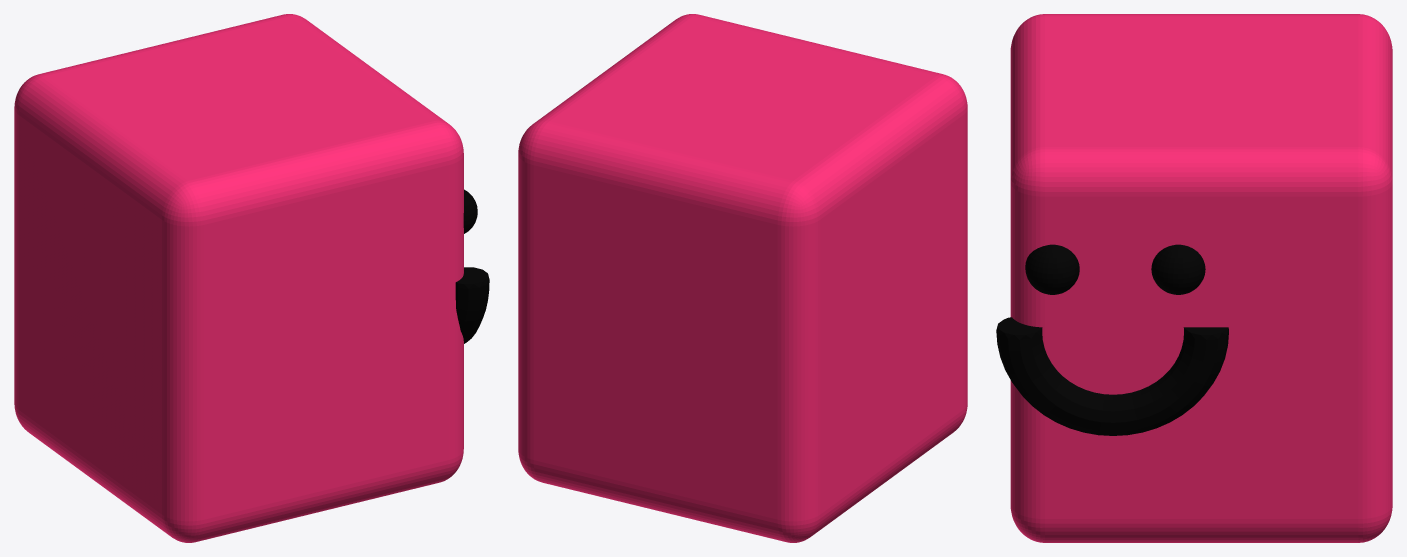
File: Chracter_HotPink.glb
3 renders of one model, left to right at view 1: azimuth 30°, elevation 25°; view 2: azimuth 150°, elevation 25°; view 3: azimuth 270°, elevation 25°, orthographic. The views are drawn at different scales.
Visible parts, largest first — view 1: Chracter_HotPink; view 2: Chracter_HotPink; view 3: Chracter_HotPink.
Boxes of the visible parts, <box> form: Chracter_HotPink: <box>14,14,489,542</box>; Chracter_HotPink: <box>518,14,967,542</box>; Chracter_HotPink: <box>996,14,1392,542</box>.
Bounding box in the file's own units: 1.84 × 2 × 1.83.
